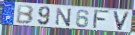6: (75, 9, 90, 28)
9: (36, 5, 53, 26)
B: (16, 5, 35, 25)
F: (92, 9, 112, 29)
N: (56, 7, 73, 28)
V: (112, 11, 130, 31)
